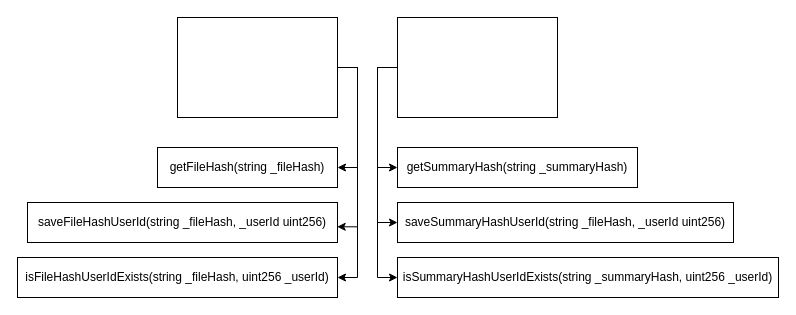
Image size: 796x315. Some labels were removed from this diagram. The shapes that lost their labels are listed below. From the top down, each one's centre as x and y in pixels, then its label:
At (257,67): "(File Lookup) fileHashUserID {string -> uint256}".
At (477,67): "(Summary Lookup) summaryHashUserID {string -> uint256}".
